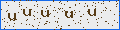u: (7, 12, 16, 22), (22, 8, 31, 17), (40, 10, 49, 18), (88, 8, 96, 17), (65, 11, 73, 19)
